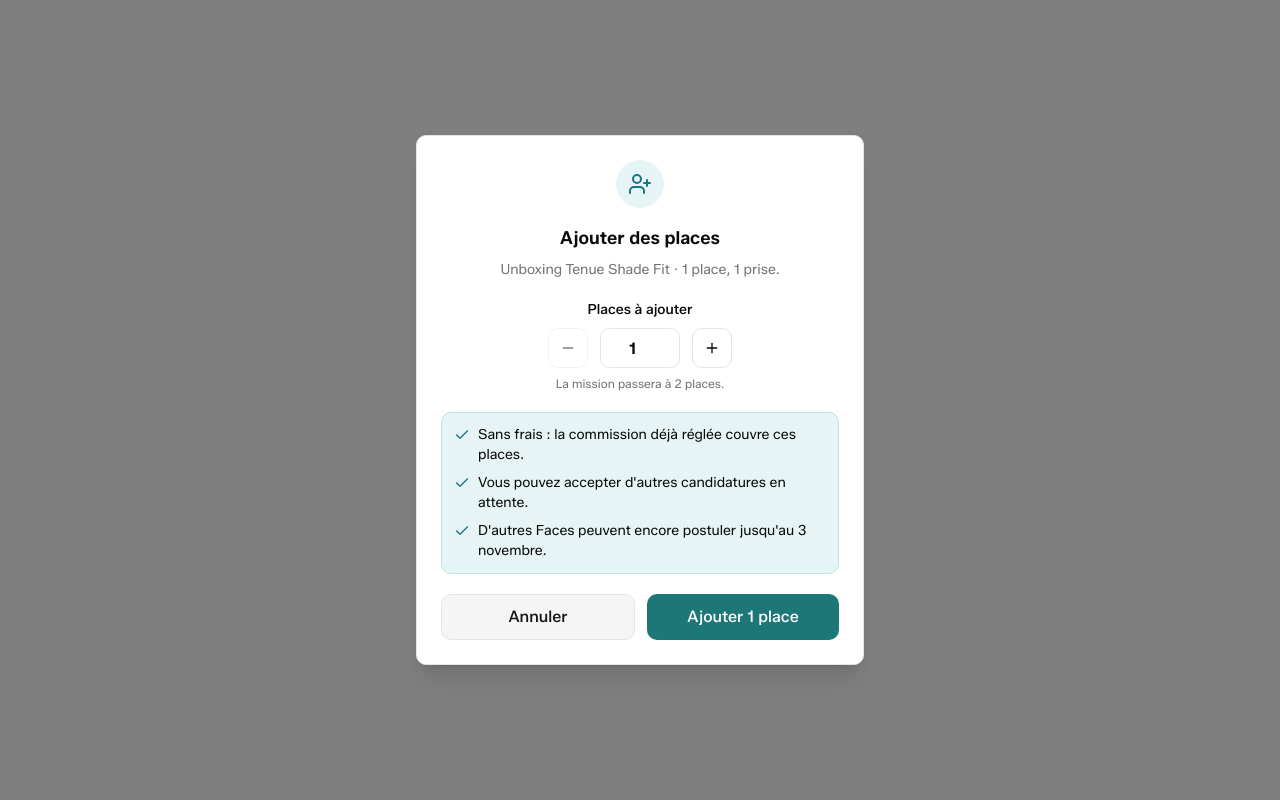
Test case: AddPlacesDialog › compteur borné entre 1 et 20, libellé du bouton au singulier puis au pluriel
Expected: the button "Ajouter 1 place" is shown, [647,594,839,640]
Click the button named "Ajouter une place de plus" at (712, 348), box [692,328,732,368]
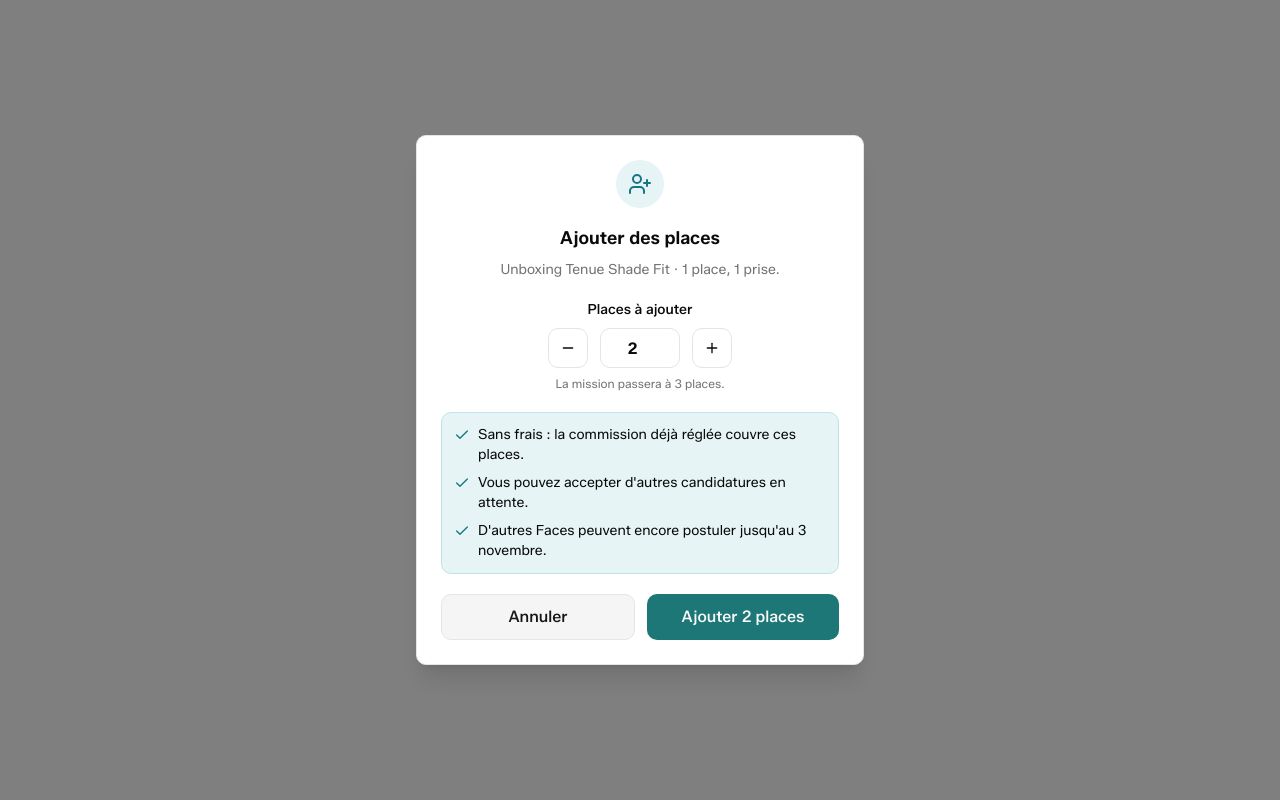
Expected: the button "Ajouter 2 places" is shown, [647,594,839,640]
Replace the text in the number field labelled "Places à ajouter" with "99" at (640, 348), box [600,328,680,368]
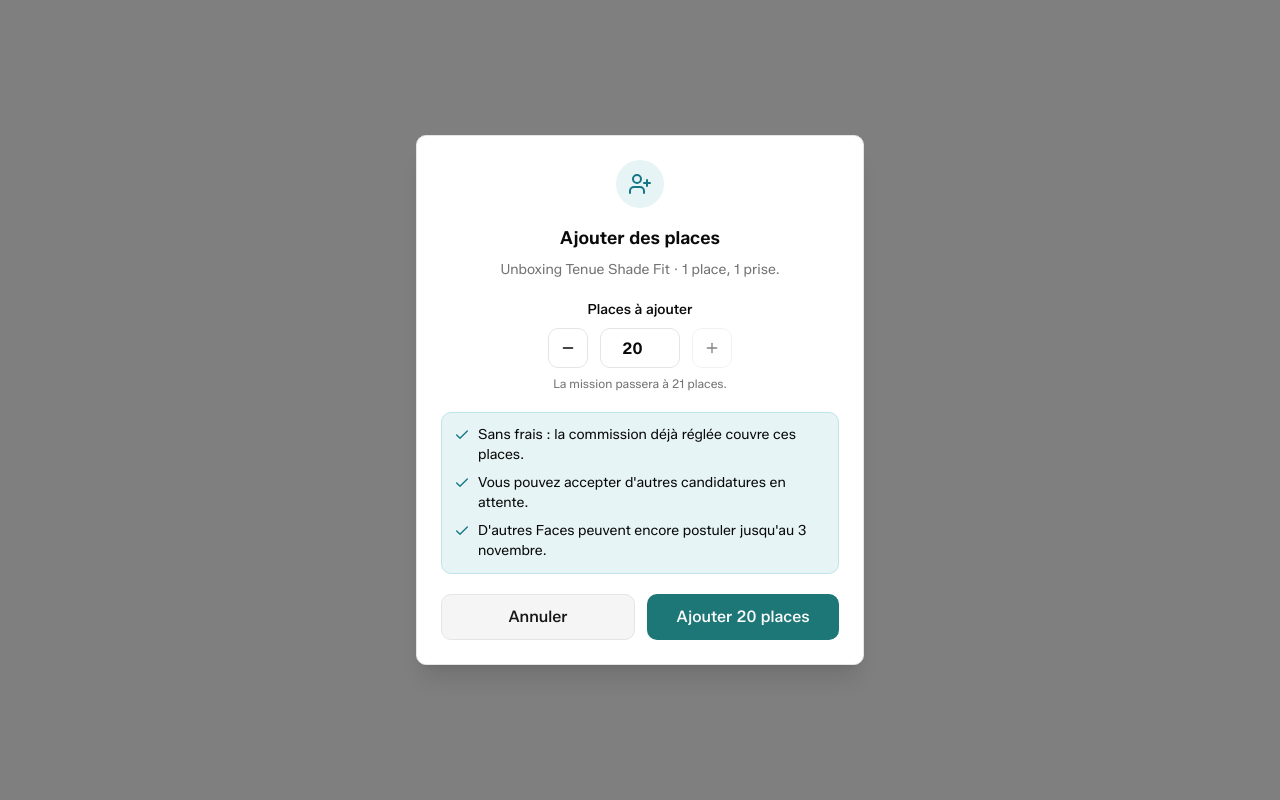
Expected: the button "Ajouter 20 places" is shown, [647,594,839,640]
Replace the text in the number field labelled "Places à ajouter" with "0" at (640, 348), box [600,328,680,368]
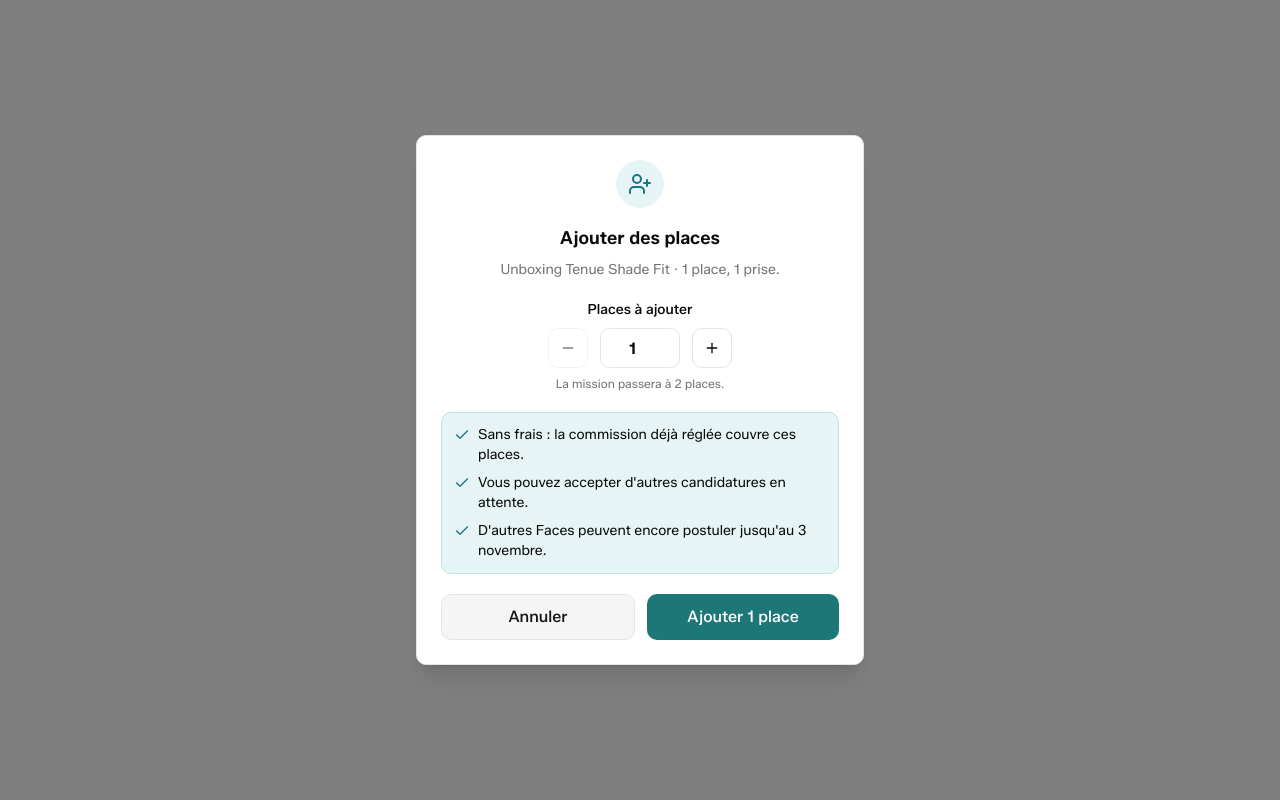
Expected: the button "Ajouter 1 place" is shown, [647,594,839,640]
